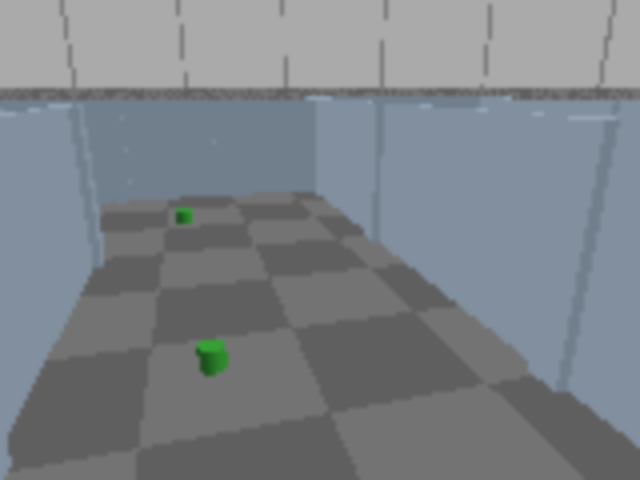puck: (198, 338, 226, 375)
